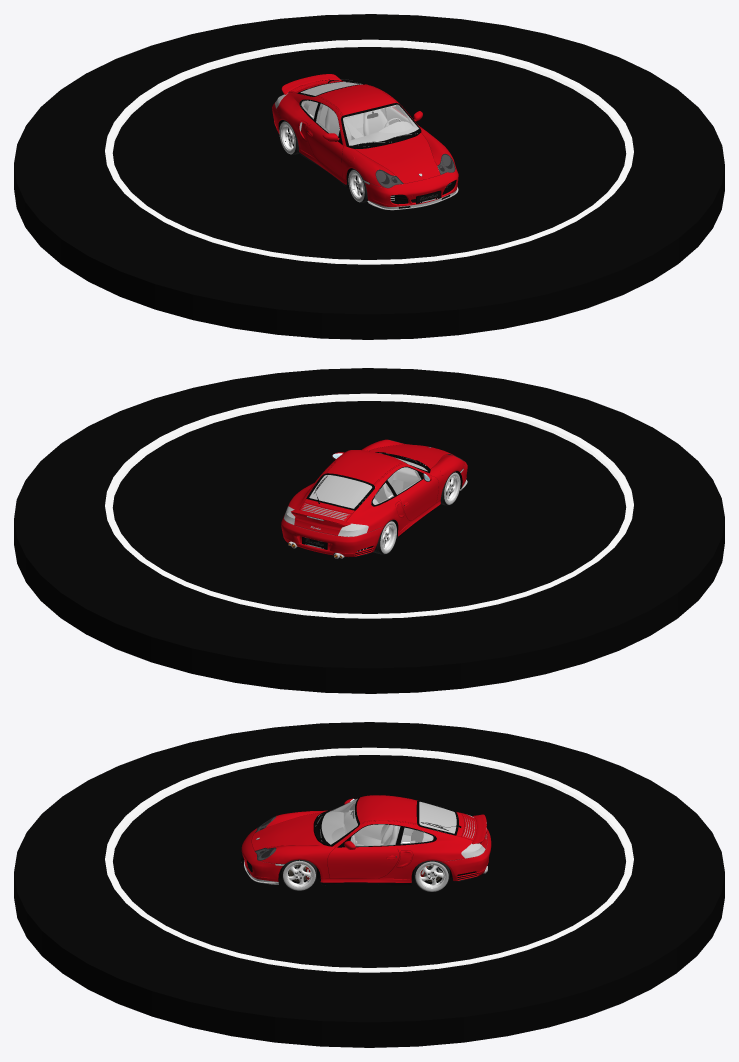
Rendered from redcar.gltf.
3 views of the same model, one above another, from view 1: azimuth 30°, elevation 25°; view 2: azimuth 150°, elevation 25°; view 3: azimuth 270°, elevation 25° (orthographic).
Visible parts, largest first — view 1: BézierCircle, Object_2, ring, Object_51, Object_28.001, Object_9.001, Headlight_Mirror; view 2: BézierCircle, Object_2, ring, Object_52.001, Object_9.001, Object_51, Object_28.001; view 3: BézierCircle, Object_2, ring, Object_51, Object_28.001, Object_9.001, Object_52.001, Object_50.001.
Boxes of the visible parts, bbox=[...] form: BézierCircle: bbox=[14, 14, 724, 339]; Object_2: bbox=[272, 74, 458, 206]; ring: bbox=[105, 39, 633, 264]; Object_51: bbox=[301, 100, 418, 145]; Object_28.001: bbox=[301, 82, 418, 145]; Object_9.001: bbox=[285, 80, 455, 203]; Headlight_Mirror: bbox=[375, 153, 455, 188]; BézierCircle: bbox=[14, 368, 724, 693]; Object_2: bbox=[281, 439, 467, 557]; ring: bbox=[105, 393, 633, 618]; Object_52.001: bbox=[309, 475, 372, 508]; Object_9.001: bbox=[302, 447, 462, 549]; Object_51: bbox=[372, 457, 427, 504]; Object_28.001: bbox=[359, 459, 427, 505]; BézierCircle: bbox=[14, 722, 724, 1047]; Object_2: bbox=[241, 795, 491, 882]; ring: bbox=[105, 747, 633, 972]; Object_51: bbox=[321, 799, 433, 846]; Object_28.001: bbox=[321, 799, 438, 846]; Object_9.001: bbox=[241, 797, 486, 882]; Object_52.001: bbox=[419, 801, 456, 833]; Object_50.001: bbox=[283, 860, 448, 891].
Bounding box in the file's own units: 11.21 × 1.56 × 11.21.
